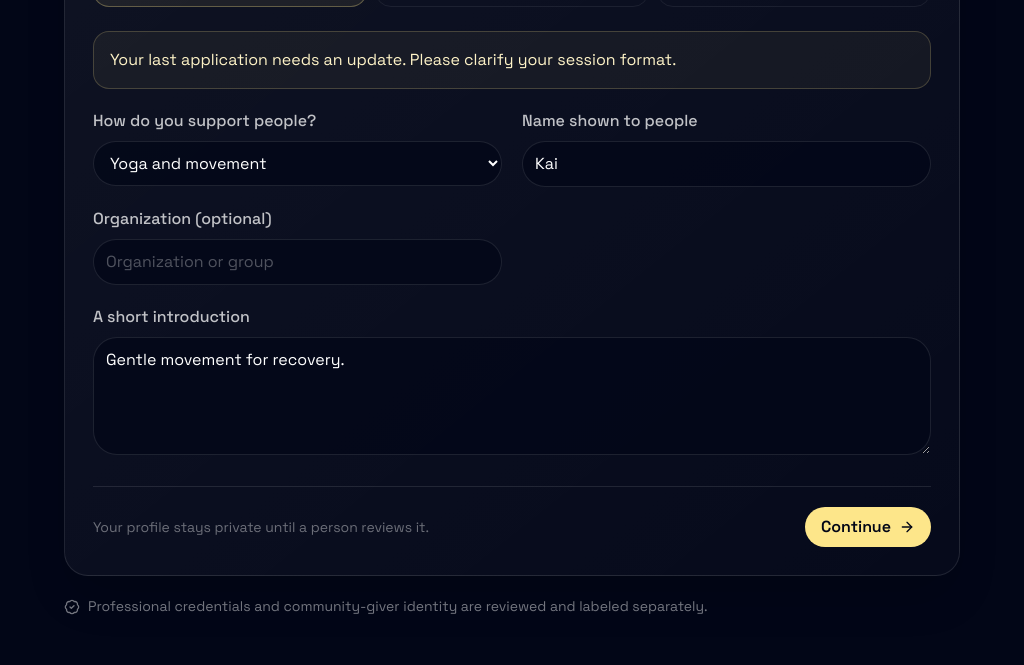
Test: PractitionerPortalPage › restores a declined application draft and submits useful structured offering details
(page scrolled)
Expected: the text "Please clarify your session format" is shown, [410,49,676,70]
Click the button "Continue".
click(868, 527)  # box [805,507,931,547]
(page scrolled)
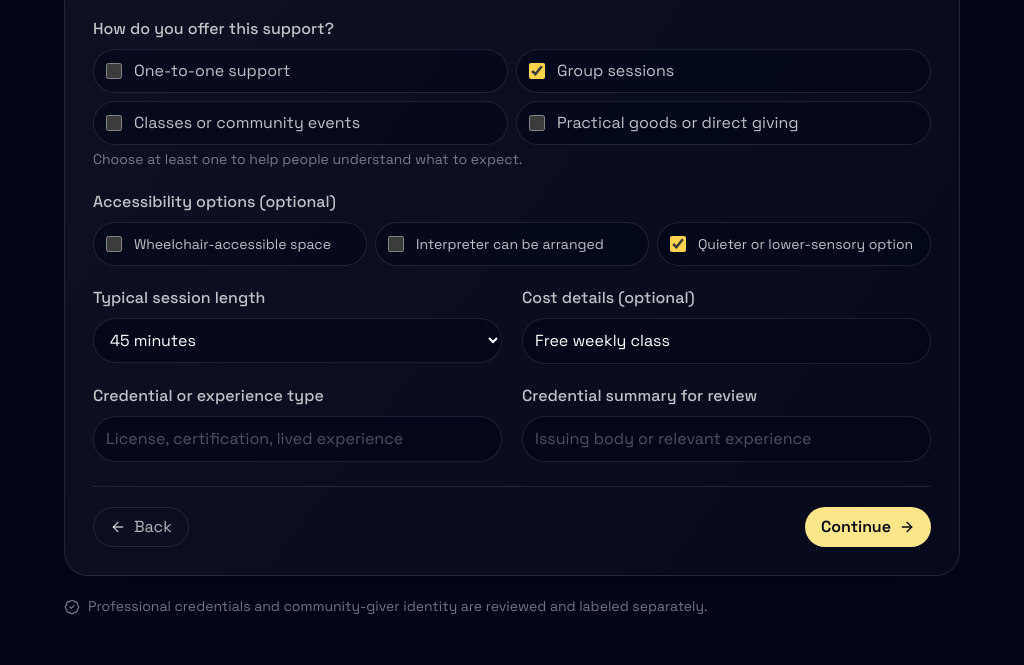
Expected: the checkbox labelled "Group sessions" is checked, [529,63,545,79]
Expected: the checkbox labelled "Quieter or lower-sensory option" is checked, [670,236,686,252]
Click the button "Continue".
click(868, 527)  # box [805,507,931,547]
(page scrolled)
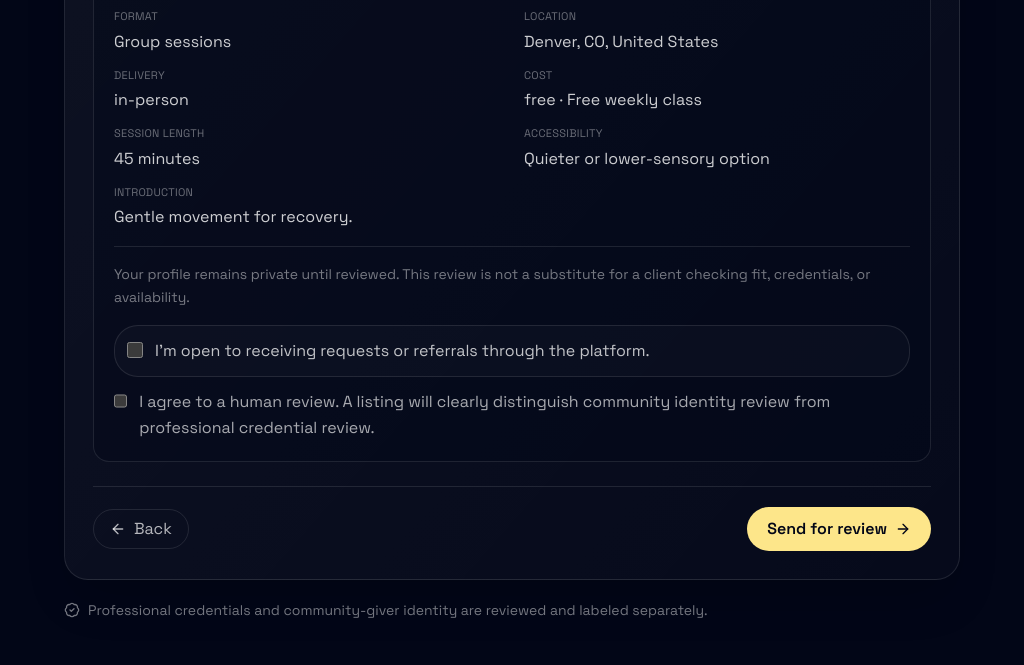
Expected: the text "free · Free weekly class" is shown, [524,89,702,110]
Click the checkbox labelled "I agree to a human review".
click(121, 401)  # box [114,393,127,409]
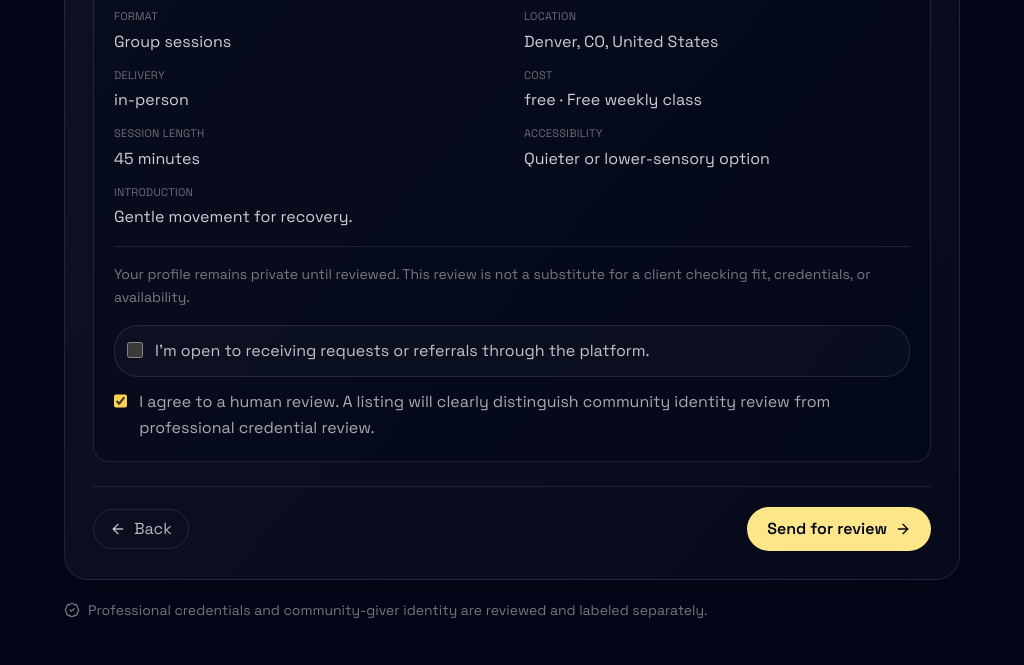
Click the button "Send for review".
click(839, 529)  # box [747,507,931,551]
(page scrolled)
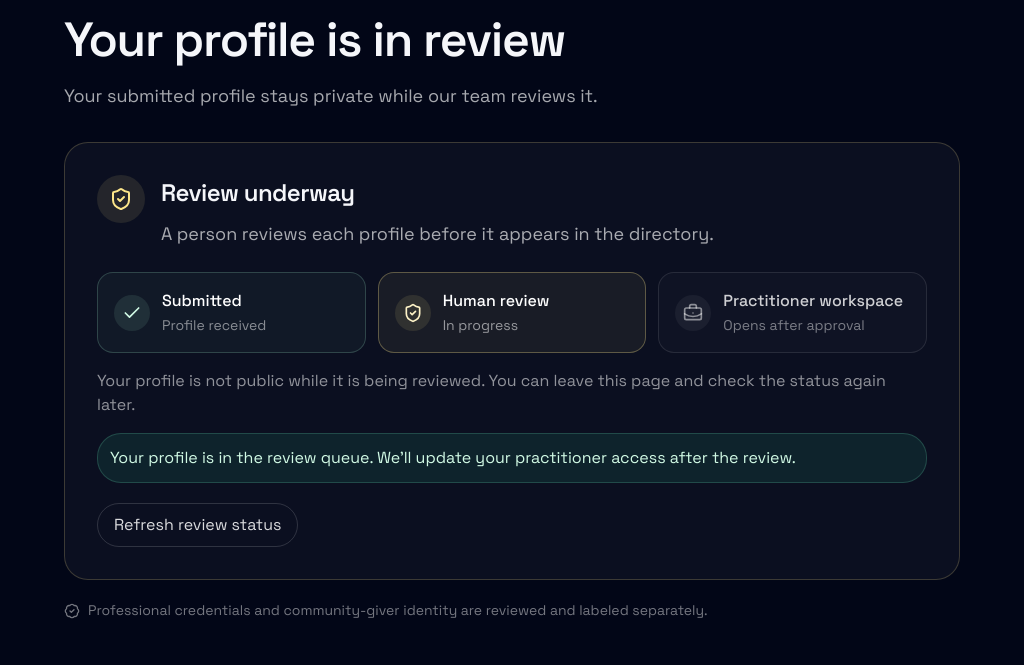
Expected: the heading "Your profile is in review" is shown, [64,9,565,70]
